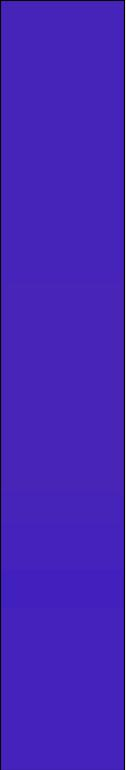safe: (10, 5, 110, 759)
